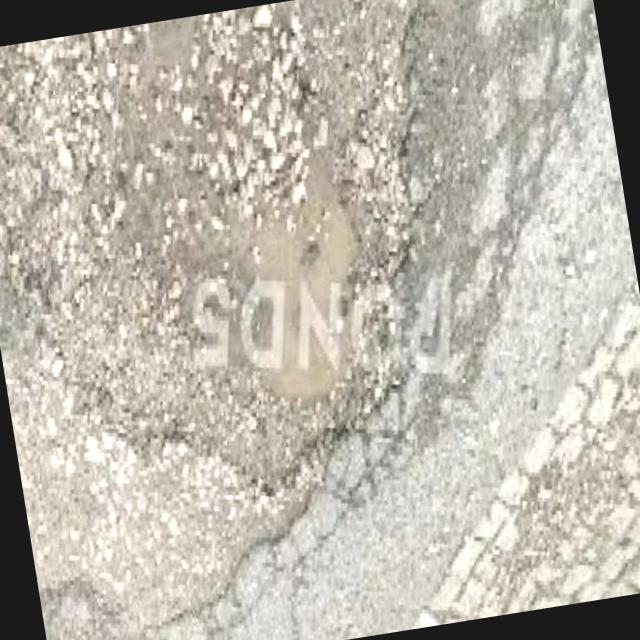Pathole: (180, 3, 385, 472)
